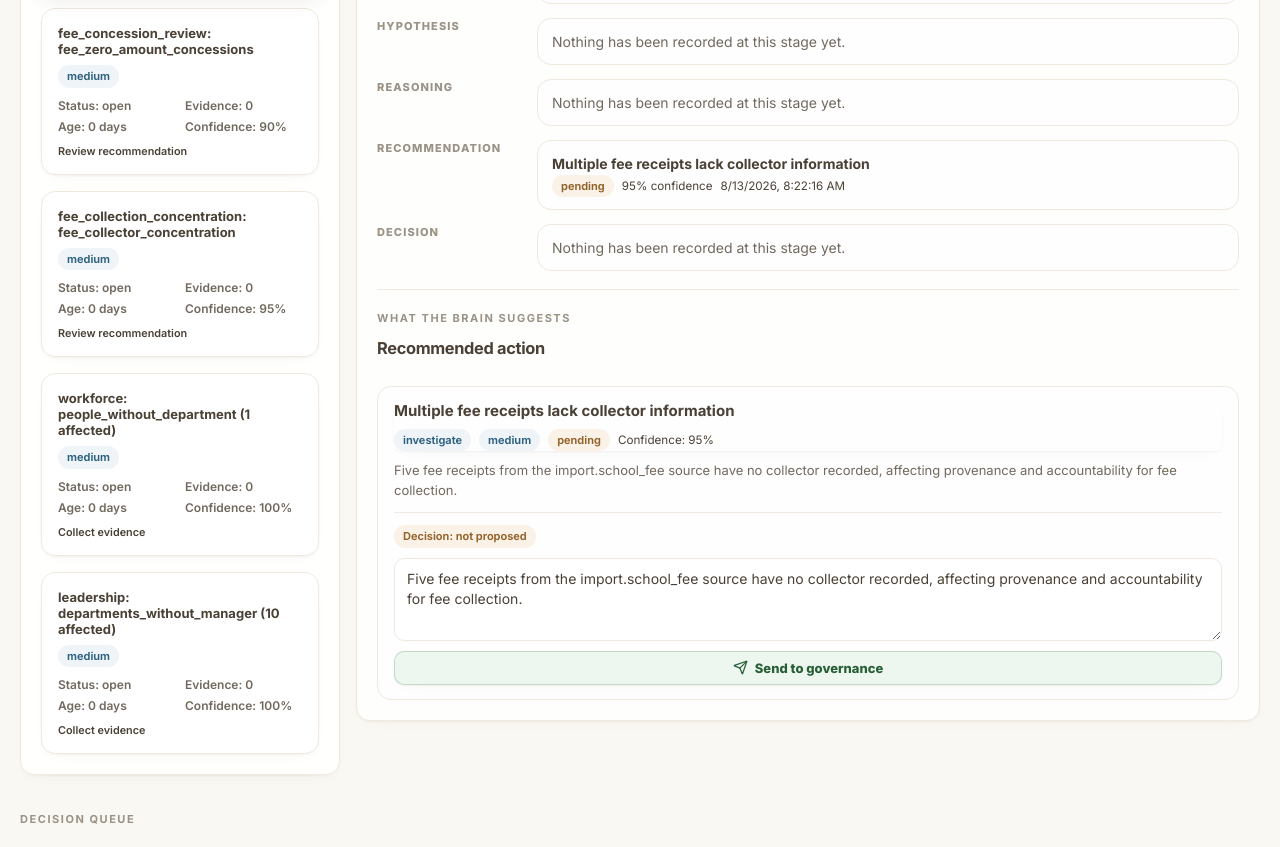
Test: Deliberation workspace — Fee Intelligence card › fetches and shows the real cited evidence when the card is opened
This screenshot has width=1280, height=847.
(page scrolled)
Expected: the heading "Recommended action" is shown, [377,336,571,362]
Expected: the element with class "intel-reco-block" is shown, [377,289,1239,700]
Click the text "Multiple fee receipts lack collector information" below "Recommended action" at (564, 410), box [394,401,734,420]
(page scrolled)
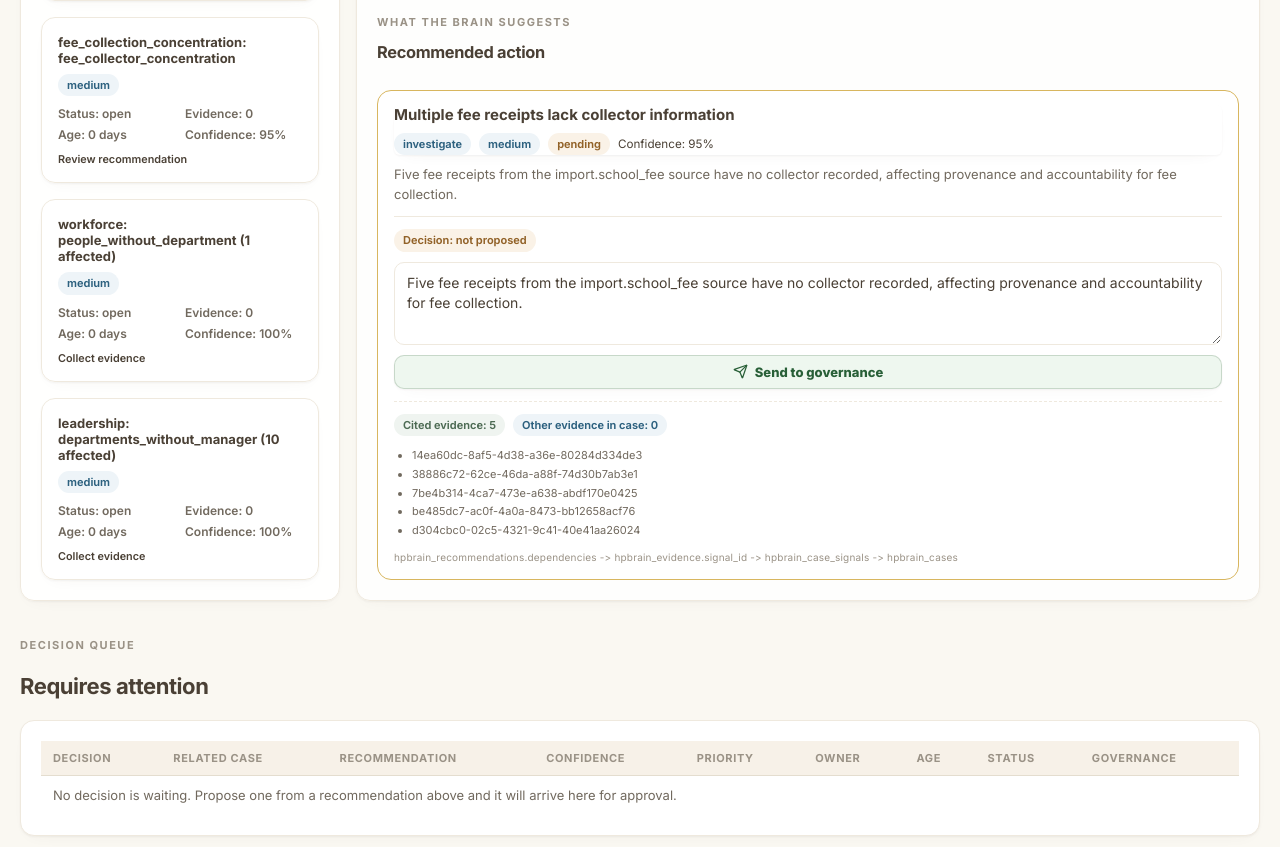
Expected: the list item "14ea60dc-8af5-4d38-a36e-80284d334de3" is shown, [412,448,642,462]
Expected: the list item "38886c72-62ce-46da-a88f-74d30b7ab3e1" is shown, [412,467,638,481]
Expected: the list item "7be4b314-4ca7-473e-a638-abdf170e0425" is shown, [412,486,638,500]
